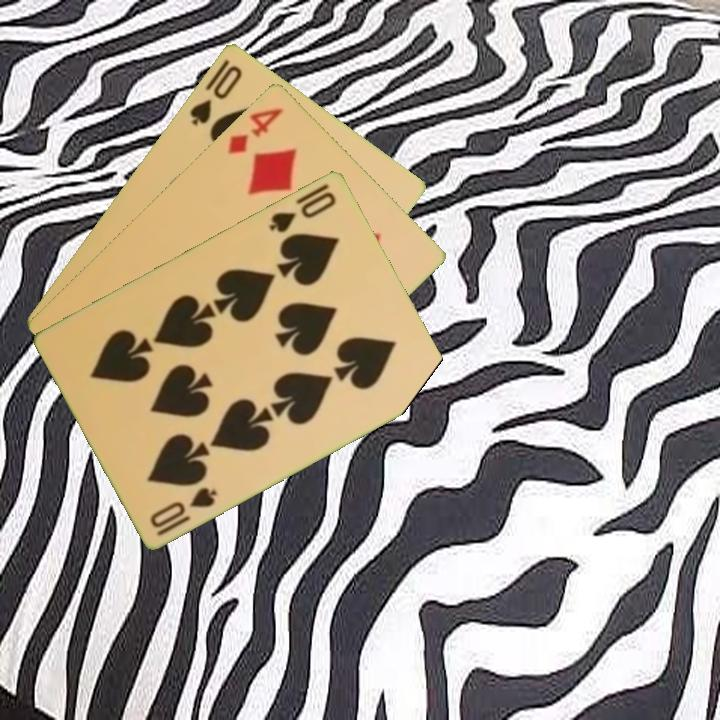10s: (146, 483, 220, 539), (186, 61, 245, 128), (265, 187, 340, 236)
4d: (223, 103, 286, 156)
